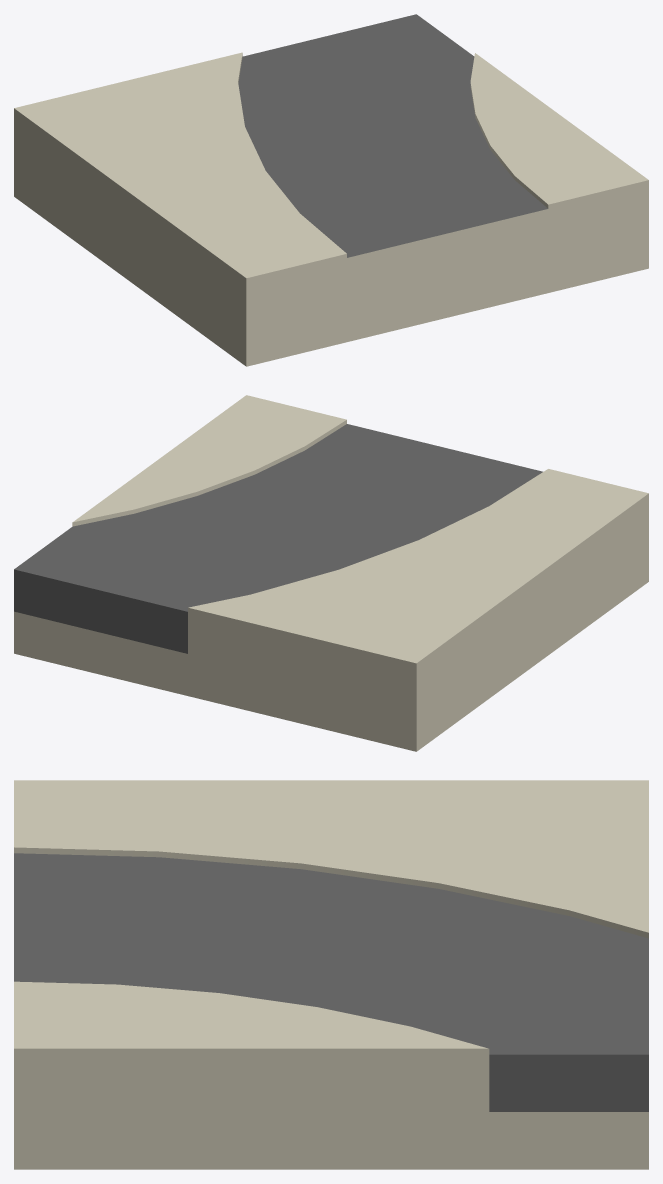
The model's file is tile009.dae.
3 renders of one model, top to bottom at view 1: azimuth 30°, elevation 25°; view 2: azimuth 150°, elevation 25°; view 3: azimuth 270°, elevation 25°, orthographic. The views are drawn at different scales.
Visible parts, largest first — view 1: tile009; view 2: tile009; view 3: tile009.
Part boxes in pixels (<box>): tile009: <box>14,14,648,366</box>; tile009: <box>14,395,648,751</box>; tile009: <box>14,780,648,1169</box>.
Bounding box in the file's own units: 1 × 0.21 × 1.
